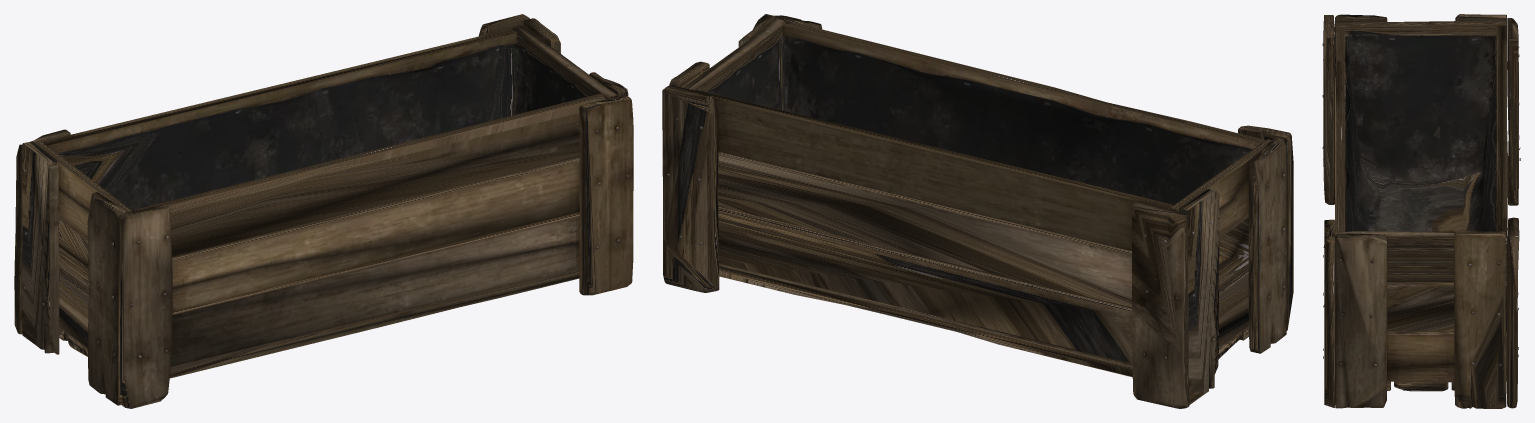
File: planter_box_02.glb
3 renders of one model, left to right at view 1: azimuth 30°, elevation 25°; view 2: azimuth 150°, elevation 25°; view 3: azimuth 270°, elevation 25°, orthographic. The views are drawn at different scales.
Parts seen in each view (by area): view 1: planter_box_02; view 2: planter_box_02; view 3: planter_box_02.
Part boxes in pixels (x1=…): planter_box_02: x1=14, y1=14, x2=633, y2=408; planter_box_02: x1=662, y1=14, x2=1293, y2=408; planter_box_02: x1=1322, y1=14, x2=1520, y2=408.
Size of the model in its own units: 1.25 by 0.4529 by 0.4673.
1 material, 1 textured.
